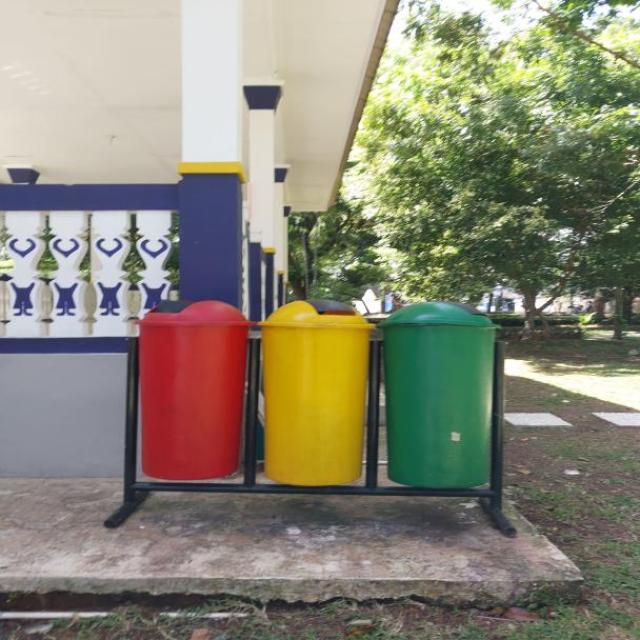dustbin ahead at: (139, 297, 497, 484)
